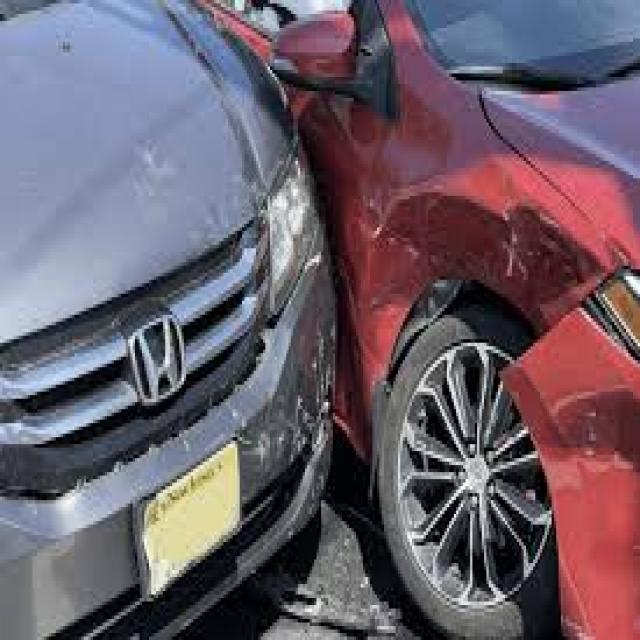accident: (79, 26, 622, 606)
